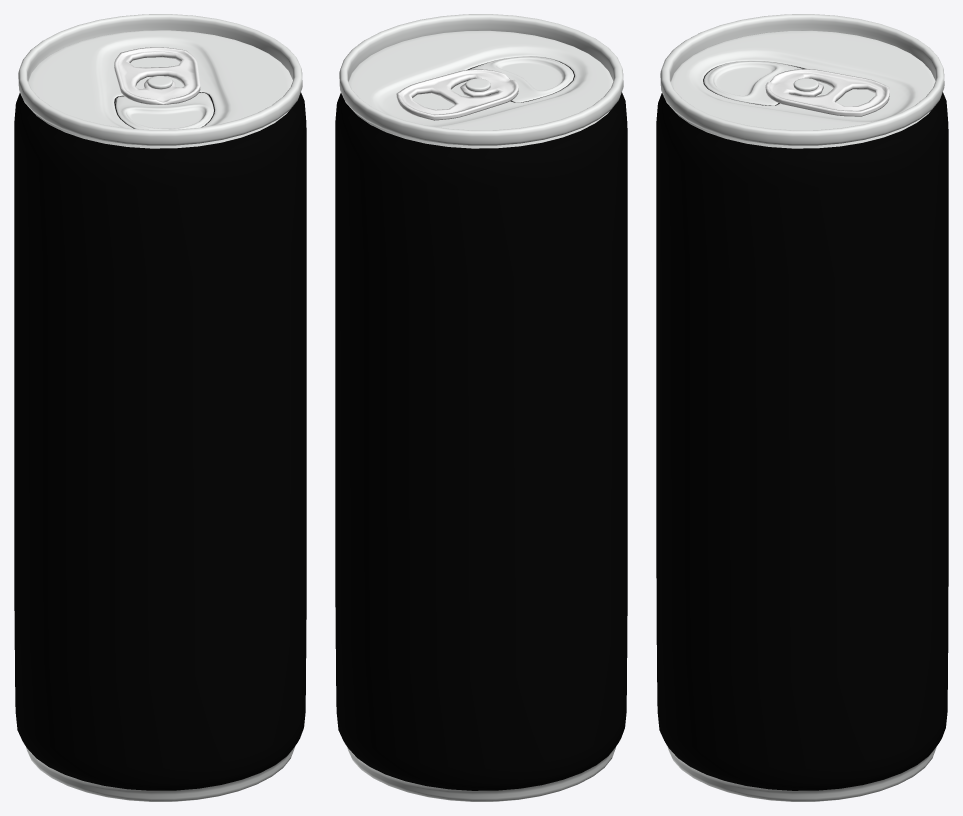
Rendered from 4screen.glb.
The picture shows the model from 3 angles, left to right: view 1: azimuth 30°, elevation 25°; view 2: azimuth 150°, elevation 25°; view 3: azimuth 270°, elevation 25°; orthographic projection.
Parts seen in each view (by area): view 1: aluminium can 250 ml.010; view 2: aluminium can 250 ml.010; view 3: aluminium can 250 ml.010.
Part boxes in pixels (x1,y1,x2,y2): aluminium can 250 ml.010: (14,14,306,801); aluminium can 250 ml.010: (335,14,627,801); aluminium can 250 ml.010: (656,14,948,801).
Size of the model in its own units: 0.0592 by 0.1505 by 0.0592.
Materials: 3 (2 with a texture image).
